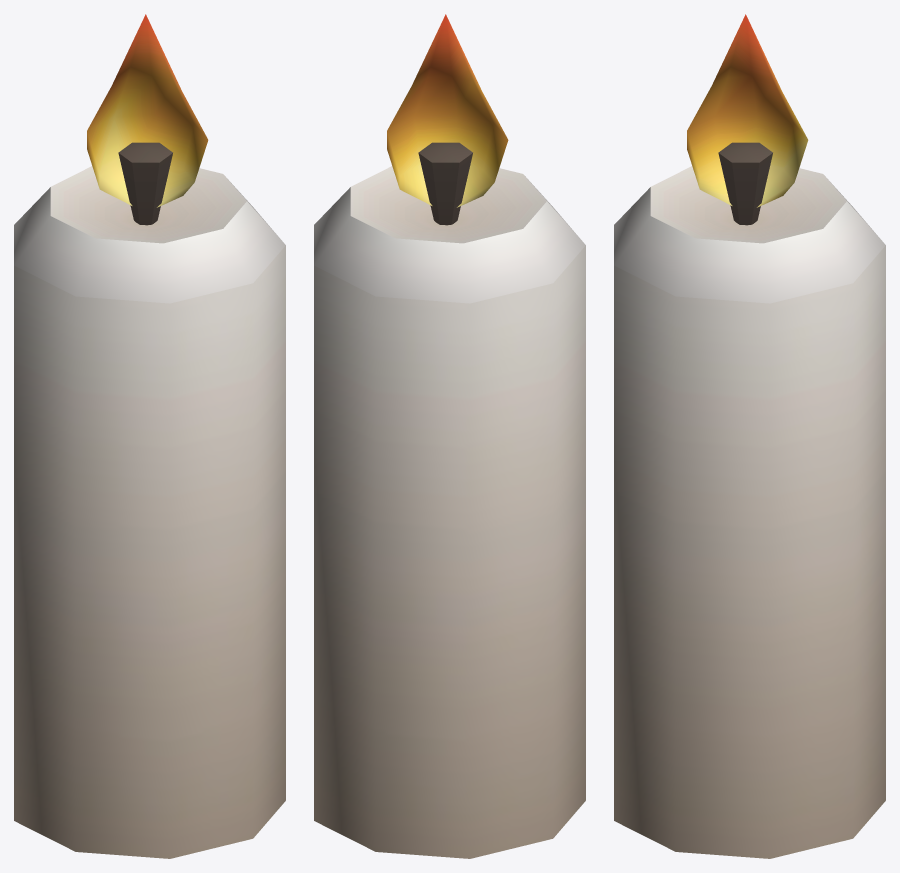
The model's file is candle_lit.gltf.glb.
3 views of the same model, side by side, from view 1: azimuth 30°, elevation 25°; view 2: azimuth 150°, elevation 25°; view 3: azimuth 270°, elevation 25° (orthographic).
Parts seen in each view (by area): view 1: candle_lit; view 2: candle_lit; view 3: candle_lit.
Boxes of the visible parts, x1,y1,x2,y2 form: candle_lit: (14,14,285,858); candle_lit: (314,14,585,858); candle_lit: (614,14,885,858).
Bounding box in the file's own units: 0.3344 × 1.05 × 0.3293.
1 material, 1 textured.
